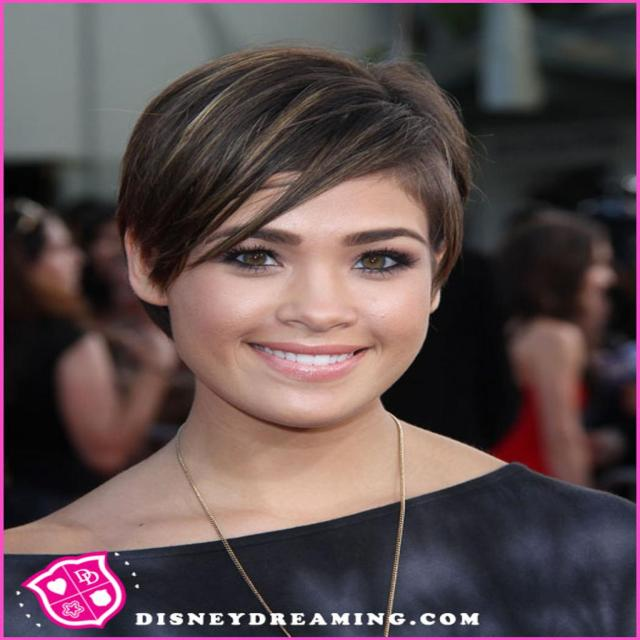Face: (192, 171, 444, 430)
